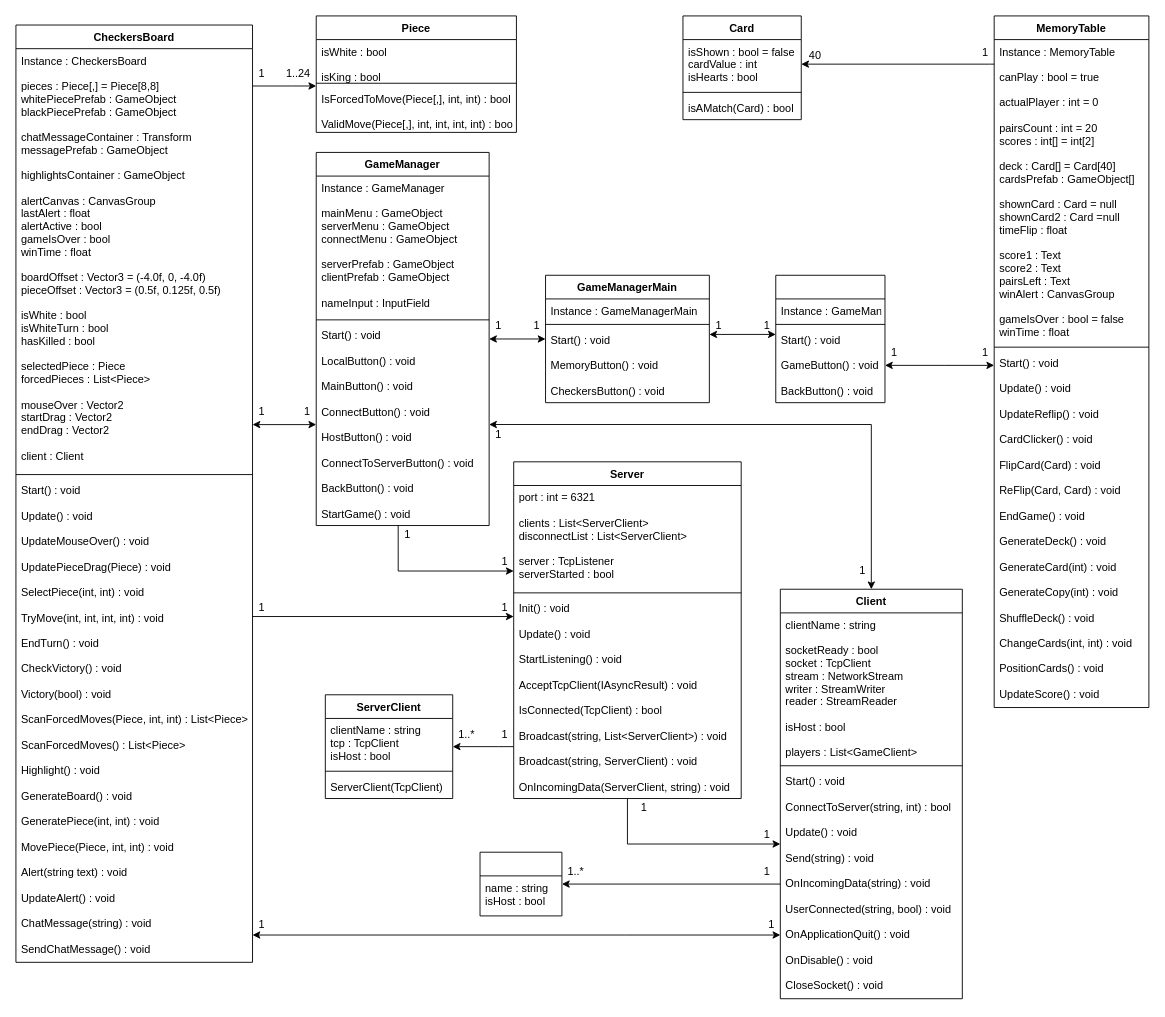
The diagram is 1165 pixels wide and 1017 high, and some of its shapes have lost their labels. The shapes that lost their labels are listed below. From the top down, each one's box as (x1, y1, x2, y2) in pixels, then its label:
(775, 274, 885, 403): GameManagerMemo
(479, 851, 562, 916): GameClient
